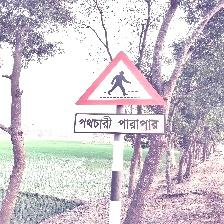Pedestrian-crossing: (73, 52, 167, 136)
